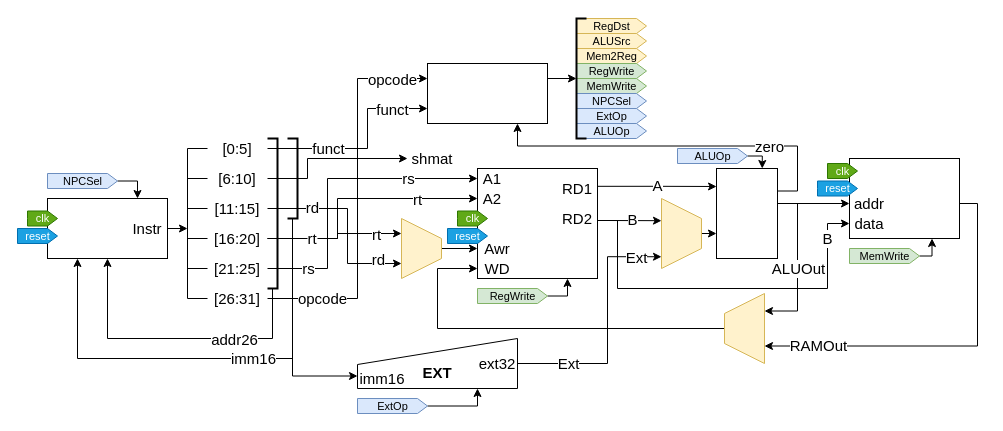
The diagram is 1003 pixels wide and 431 high, and some of its shapes have lost their labels. Each missing label, with the box of its shape:
ALU: (716, 168, 778, 258)
ALU Src: (660, 198, 702, 268)
Controller: (426, 62, 548, 124)
GPR: (476, 168, 598, 278)
IFU: (46, 198, 168, 258)
Mem 2Reg: (724, 292, 764, 364)
RAM: (848, 158, 960, 238)
Reg Dst: (400, 218, 442, 278)
